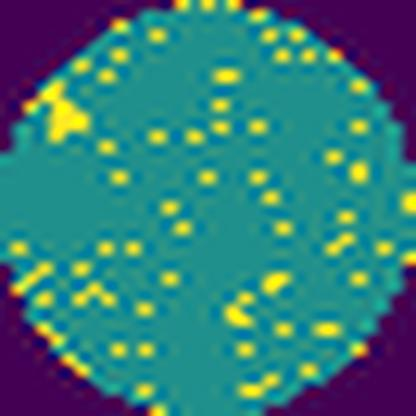Loc: (38, 79, 92, 143)
